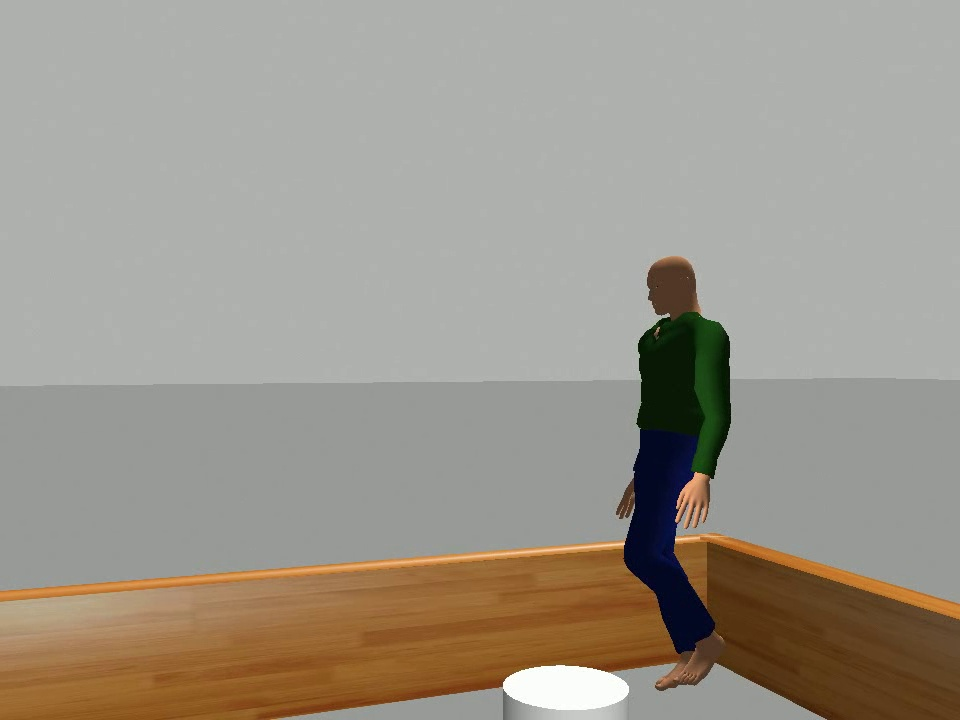person: (613, 253, 734, 694)
